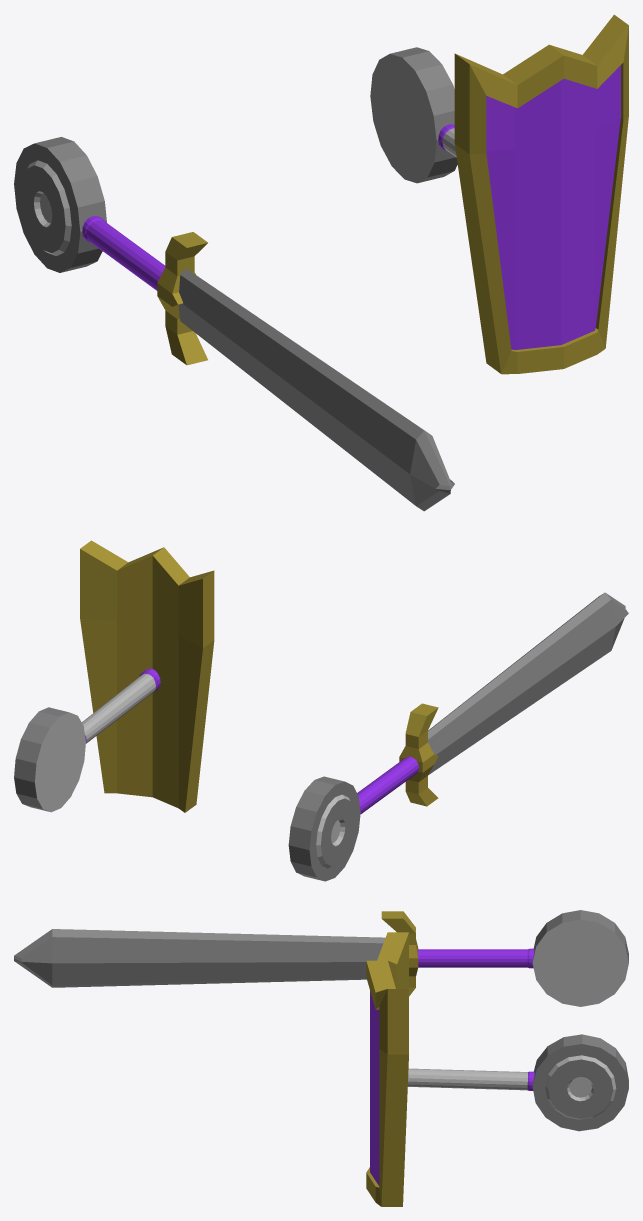
File: armBattle.fbx
3 renders of one model, top to bottom at view 1: azimuth 30°, elevation 25°; view 2: azimuth 150°, elevation 25°; view 3: azimuth 270°, elevation 25°, orthographic. The views are drawn at different scales.
Visible parts, largest first — view 1: Arm - Battle; view 2: Arm - Battle; view 3: Arm - Battle.
Boxes of the visible parts, <box> form: Arm - Battle: <box>14,14,628,511</box>; Arm - Battle: <box>14,540,628,881</box>; Arm - Battle: <box>14,910,628,1206</box>.
Bounding box in the file's own units: 97.05 × 157 × 64.2.
